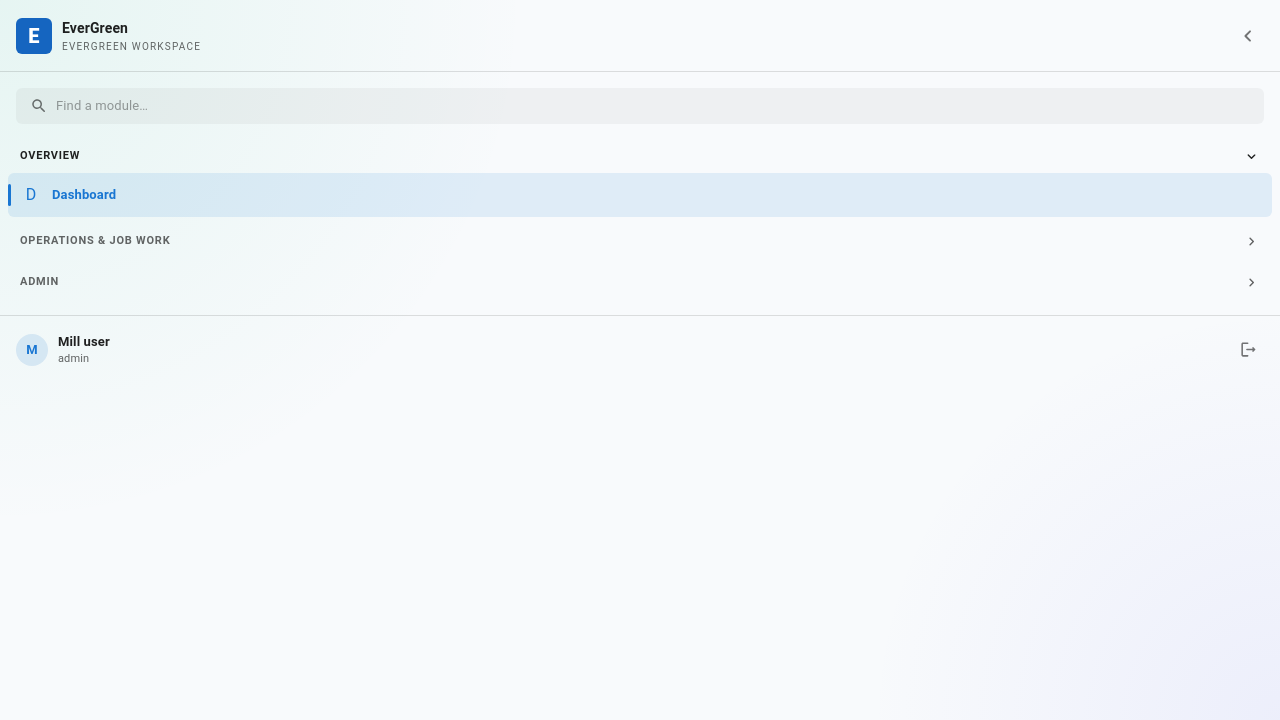
it: workspace navigation › filters across closed groups and offers recovery when nothing matches
The image size is (1280, 720).
Expected: the link "Settings" is not shown
Type "settings" into the field labelled "Find a module" at (660, 106), box [56,88,1264,124]
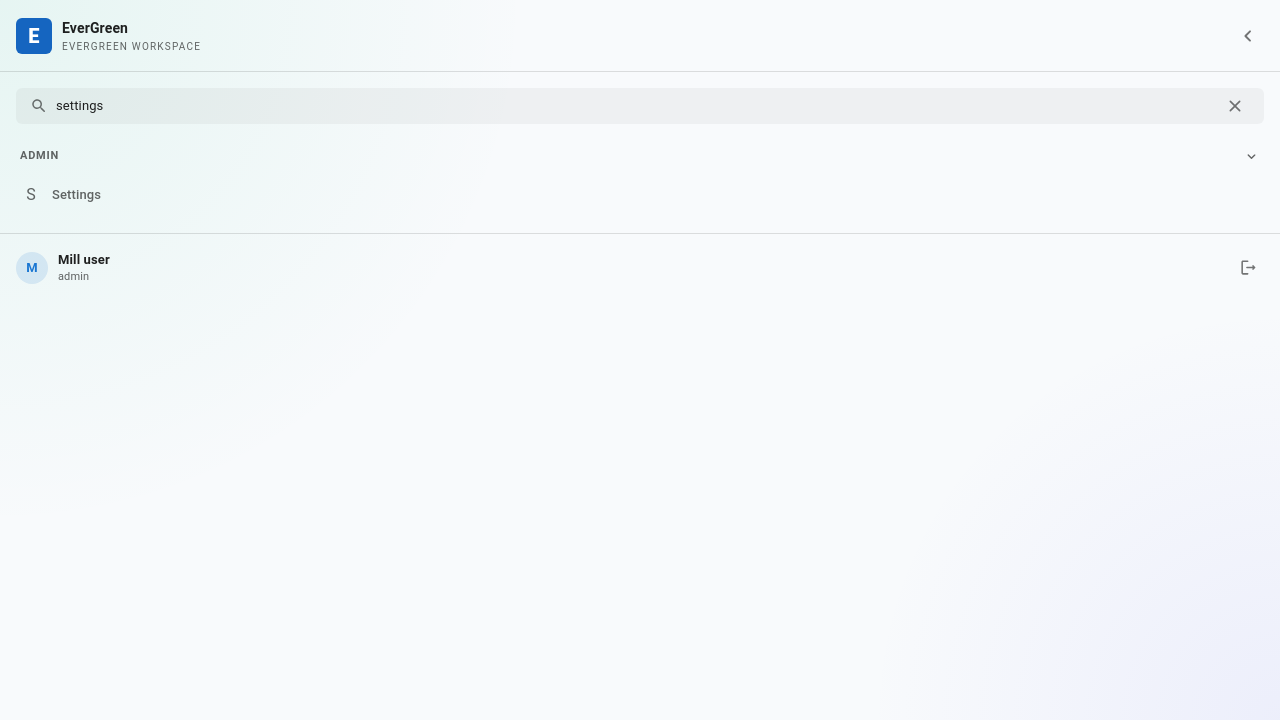
Now the link "S Settings" is shown, box [26,185,101,204]
Replace the text in the field named "Find a module" with "no matching name" at (634, 106), box [56,88,1212,124]
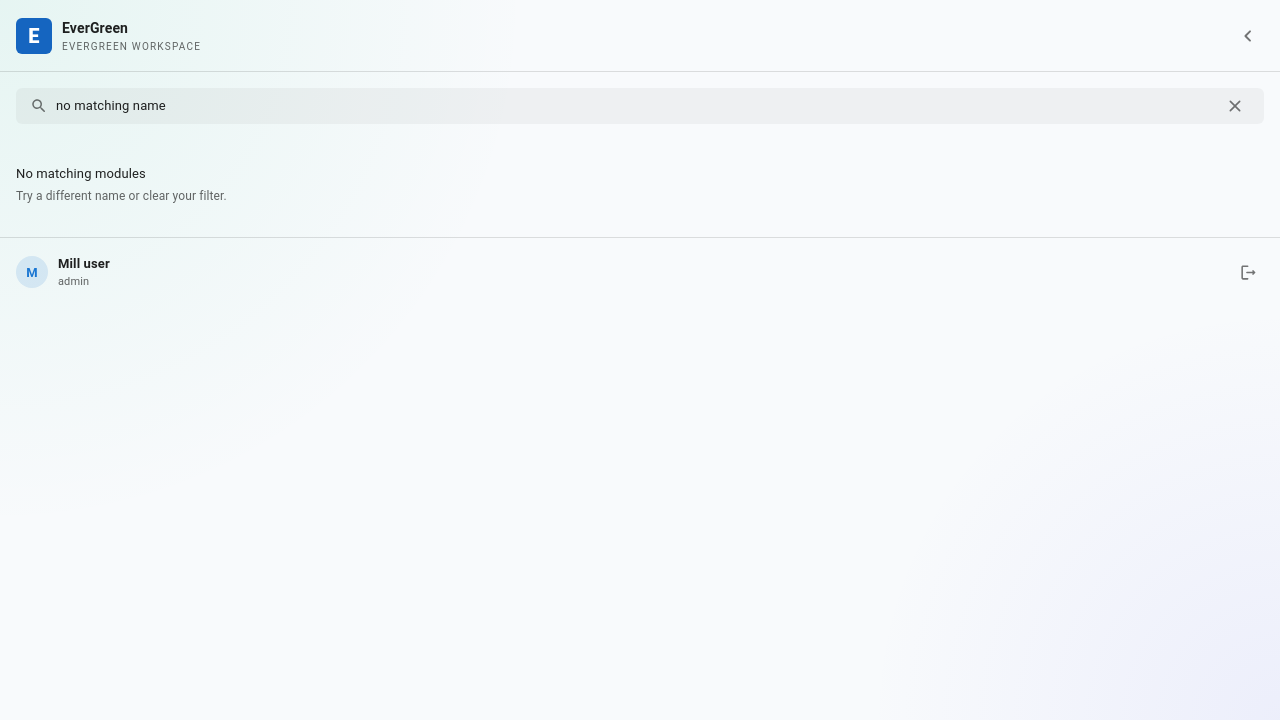
Now the message shows "No matching modules", box [16,166,146,181]
Click the button named "Clear module filter" at (1235, 106), box [1220,91,1250,121]
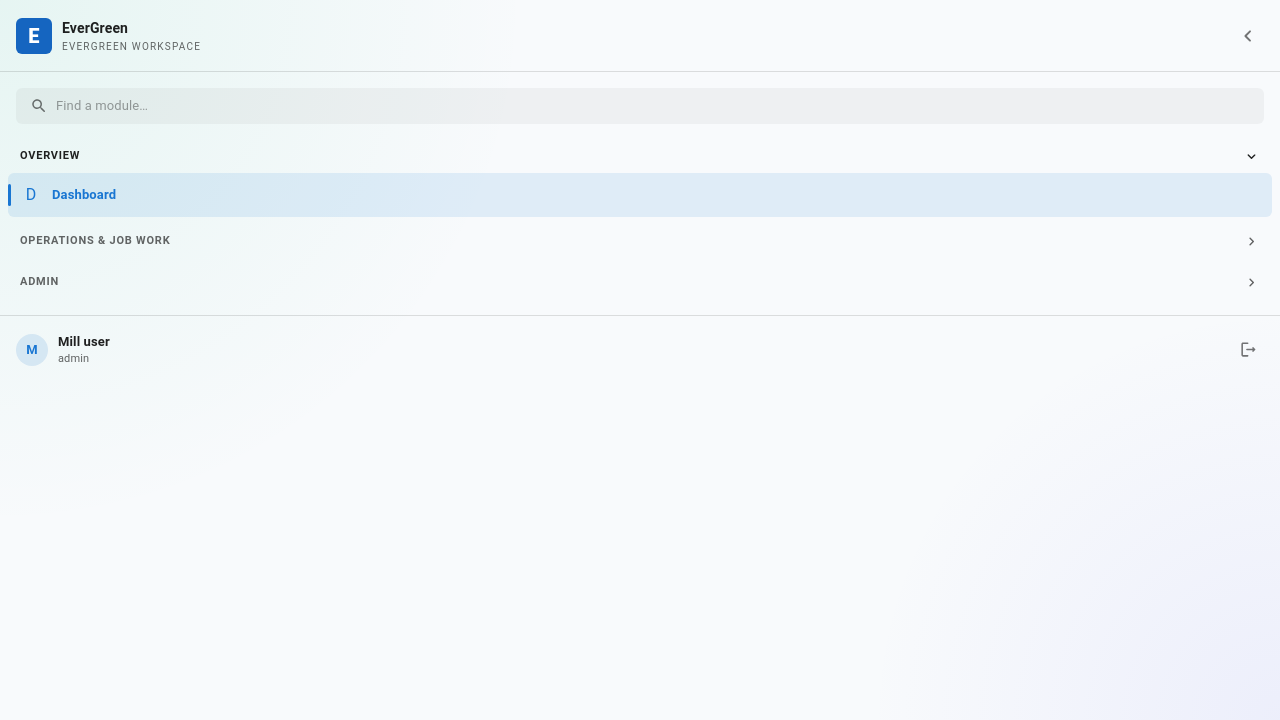
Now the link "D Dashboard" is shown, box [8,173,1272,217]
